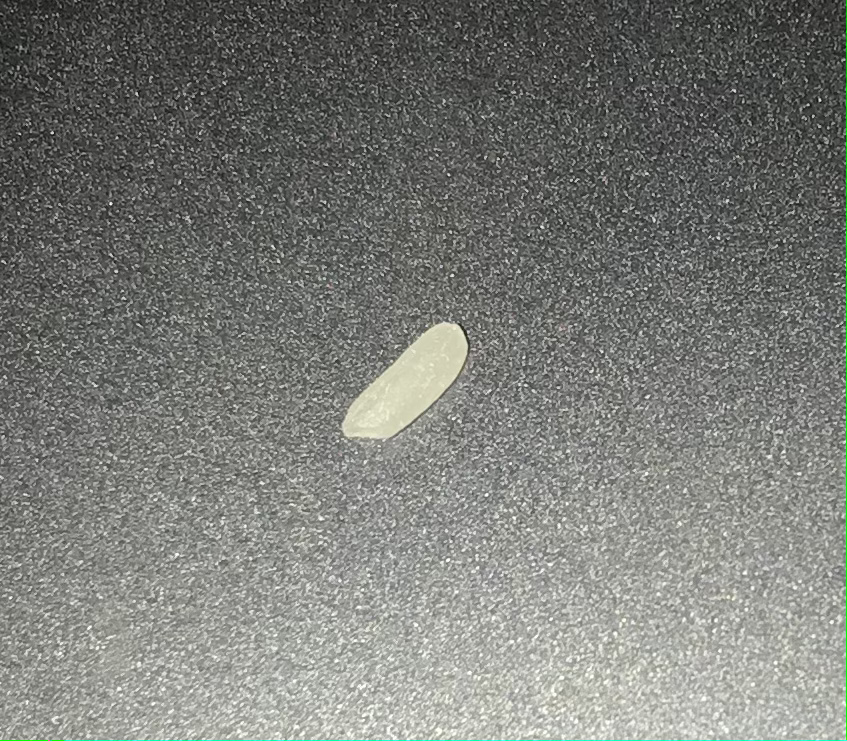Gao Tam Thom: (319, 310, 491, 458)
